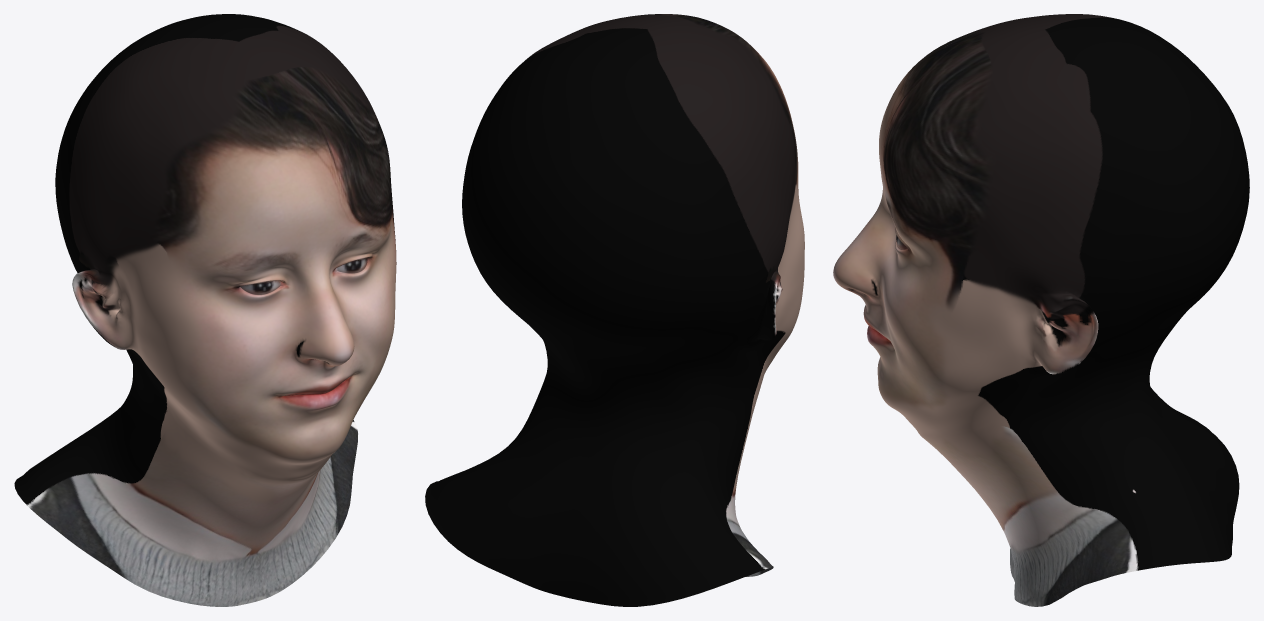
The model's file is myface.gltf.
3 views of the same model, side by side, from view 1: azimuth 30°, elevation 25°; view 2: azimuth 150°, elevation 25°; view 3: azimuth 270°, elevation 25° (orthographic).
Parts seen in each view (by area): view 1: FBHead; view 2: FBHead; view 3: FBHead.
Boxes of the visible parts, x1,y1,x2,y2 form: FBHead: [14, 14, 396, 606]; FBHead: [425, 14, 804, 606]; FBHead: [833, 14, 1249, 606].
Bounding box in the file's own units: 1.7 × 2.75 × 1.84.
Materials: 1 (1 with a texture image).
